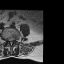CCS_normal: (10, 40, 12, 47)
LFS_severe_stenosis: (13, 38, 14, 43)
LLS_severe_stenosis: (12, 39, 13, 44)
RFS_severe_stenosis: (7, 39, 9, 43)
RLS_severe_stenosis: (9, 39, 10, 44)
